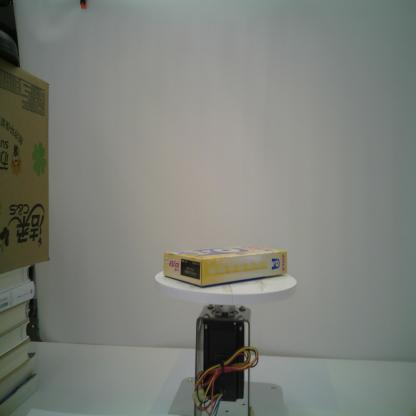Dessert: (162, 244, 289, 289)
